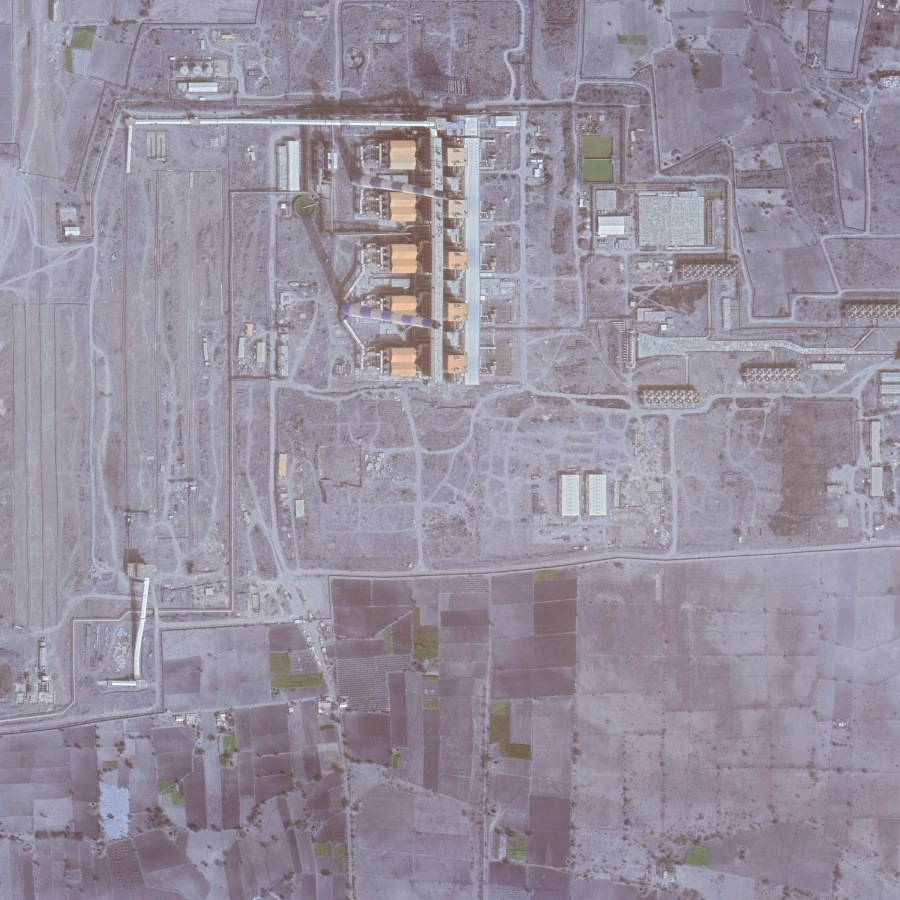PowerPlant: (111, 107, 740, 519)
